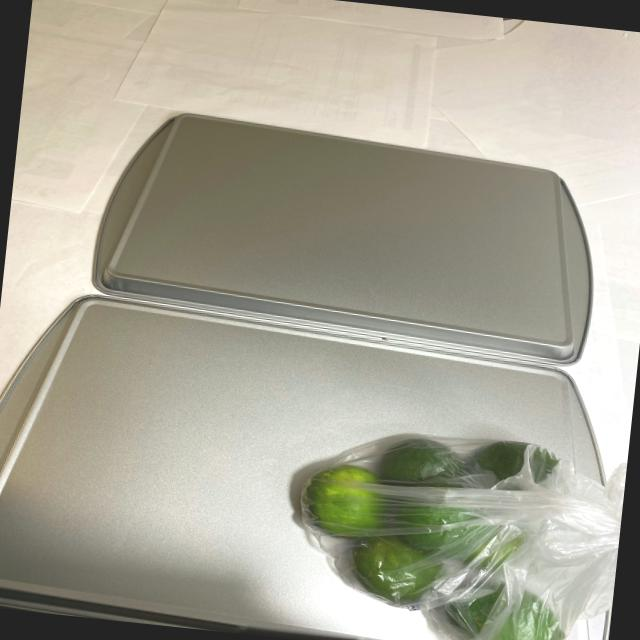lemon: (289, 423, 607, 640)
